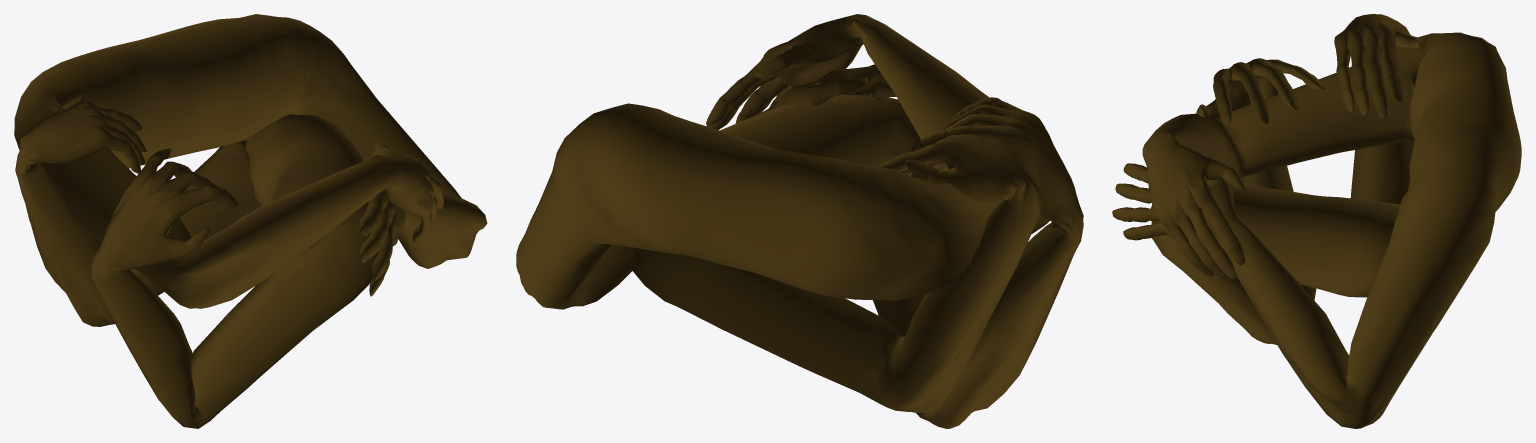
The model's file is Humanity.glb.
3 views of the same model, side by side, from view 1: azimuth 30°, elevation 25°; view 2: azimuth 150°, elevation 25°; view 3: azimuth 270°, elevation 25° (orthographic). The views are drawn at different scales.
Parts seen in each view (by area): view 1: Marie_Antoinette001; view 2: Marie_Antoinette001; view 3: Marie_Antoinette001.
Part boxes in pixels (x1=…): Marie_Antoinette001: x1=14, y1=14, x2=487, y2=428; Marie_Antoinette001: x1=516, y1=14, x2=1083, y2=428; Marie_Antoinette001: x1=1112, y1=14, x2=1521, y2=428.
Bounding box in the file's own units: 3.2 × 1.99 × 2.52.
